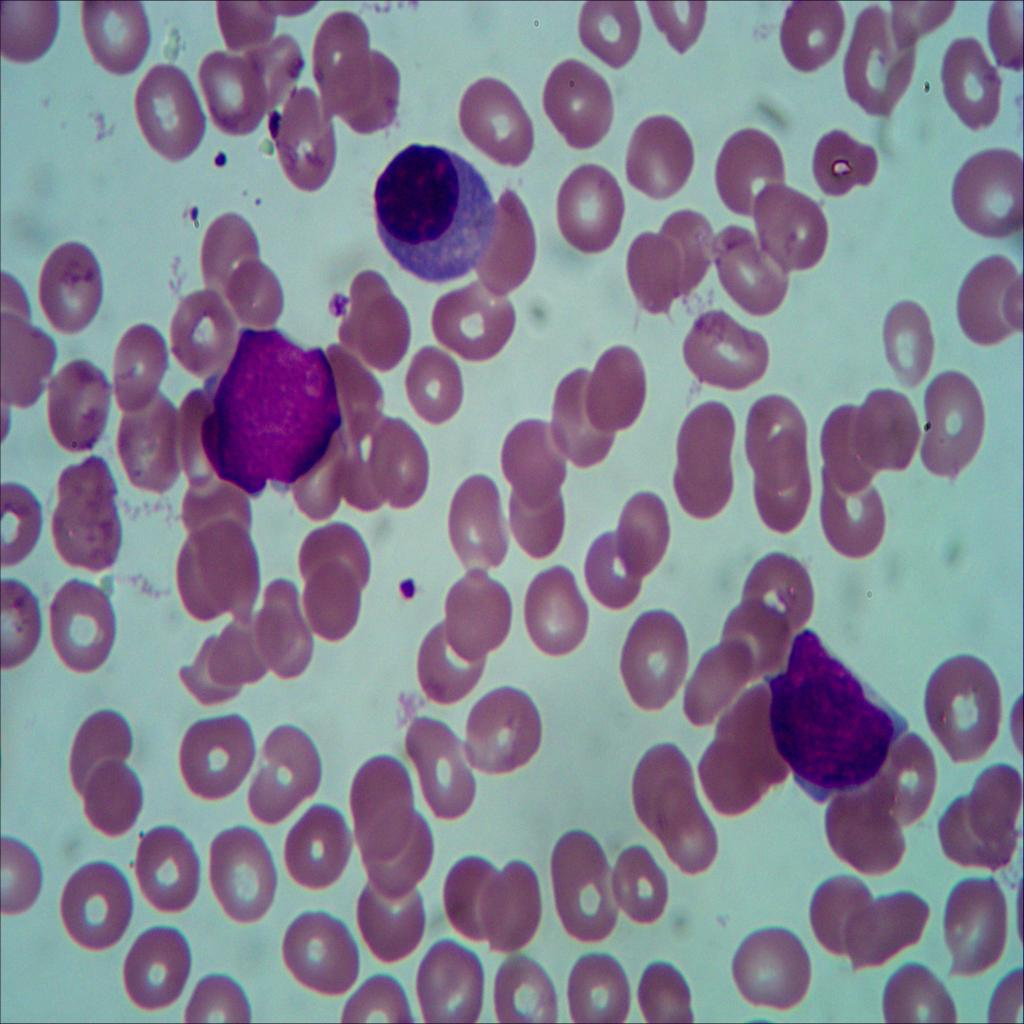Eritrosit: (706, 212, 800, 320), (908, 366, 995, 482), (931, 872, 1024, 977), (922, 656, 1010, 762), (720, 920, 814, 1015), (841, 879, 938, 969), (949, 240, 1024, 354), (544, 834, 620, 944), (844, 5, 912, 127), (708, 679, 790, 780), (404, 710, 477, 822), (458, 71, 537, 173), (937, 32, 1013, 138), (173, 708, 253, 808), (242, 722, 320, 824), (542, 48, 618, 152), (616, 603, 690, 709), (430, 281, 522, 366), (673, 631, 757, 723), (130, 820, 206, 921), (685, 304, 774, 390), (622, 110, 700, 208), (931, 798, 1024, 880), (687, 731, 769, 823), (719, 592, 799, 686), (623, 730, 698, 830), (168, 462, 254, 548), (347, 877, 429, 967), (134, 62, 205, 165), (754, 178, 831, 272), (552, 162, 628, 257), (206, 823, 276, 926), (494, 412, 572, 504), (347, 752, 412, 862), (358, 806, 436, 896), (806, 868, 879, 964), (740, 542, 819, 630), (712, 117, 782, 216), (340, 278, 415, 370), (410, 622, 491, 707), (440, 569, 513, 663), (951, 144, 1024, 238), (415, 926, 485, 1024), (522, 563, 592, 661), (117, 918, 189, 1013), (808, 114, 884, 204), (654, 786, 725, 882), (445, 471, 511, 574), (359, 419, 432, 512), (478, 183, 537, 298), (285, 798, 354, 896), (872, 958, 974, 1024), (59, 858, 132, 950), (549, 365, 615, 466), (274, 89, 338, 193), (228, 32, 306, 117), (466, 684, 538, 776), (332, 49, 402, 143), (283, 904, 356, 994), (38, 243, 105, 341), (823, 462, 888, 563), (825, 791, 906, 871), (65, 708, 135, 800), (115, 386, 178, 488), (195, 51, 266, 141), (309, 8, 371, 110), (297, 518, 373, 600), (47, 362, 114, 455), (77, 0, 152, 83), (775, 0, 849, 84), (171, 290, 240, 379), (851, 381, 918, 471), (77, 761, 147, 847), (618, 220, 681, 314), (588, 340, 648, 438), (606, 851, 675, 936), (479, 864, 543, 955), (251, 585, 311, 680), (297, 564, 364, 649), (165, 538, 229, 626), (561, 945, 632, 1024), (579, 530, 649, 610), (50, 590, 118, 672), (0, 316, 58, 412), (878, 292, 936, 388), (109, 325, 175, 409), (878, 739, 940, 828), (202, 528, 266, 614), (749, 456, 813, 542), (670, 454, 746, 526), (573, 0, 650, 71), (440, 856, 503, 941), (750, 390, 811, 477), (611, 490, 674, 572), (817, 404, 877, 490), (200, 209, 254, 303), (505, 477, 568, 557), (405, 346, 466, 428), (203, 610, 269, 685), (655, 204, 715, 284), (674, 404, 742, 474), (960, 763, 1024, 836), (491, 958, 561, 1024), (226, 258, 284, 336), (178, 639, 238, 712), (0, 839, 47, 931), (0, 482, 47, 572), (646, 0, 716, 54), (638, 964, 690, 1024)
Limfoblast: (760, 631, 910, 806), (200, 324, 344, 496)
Limfosit: (377, 138, 499, 285)
Platelet: (324, 282, 356, 324), (396, 576, 420, 604), (214, 146, 233, 179)
